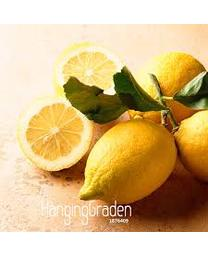lemon: (81, 119, 176, 204), (19, 94, 97, 173), (59, 47, 123, 96)
